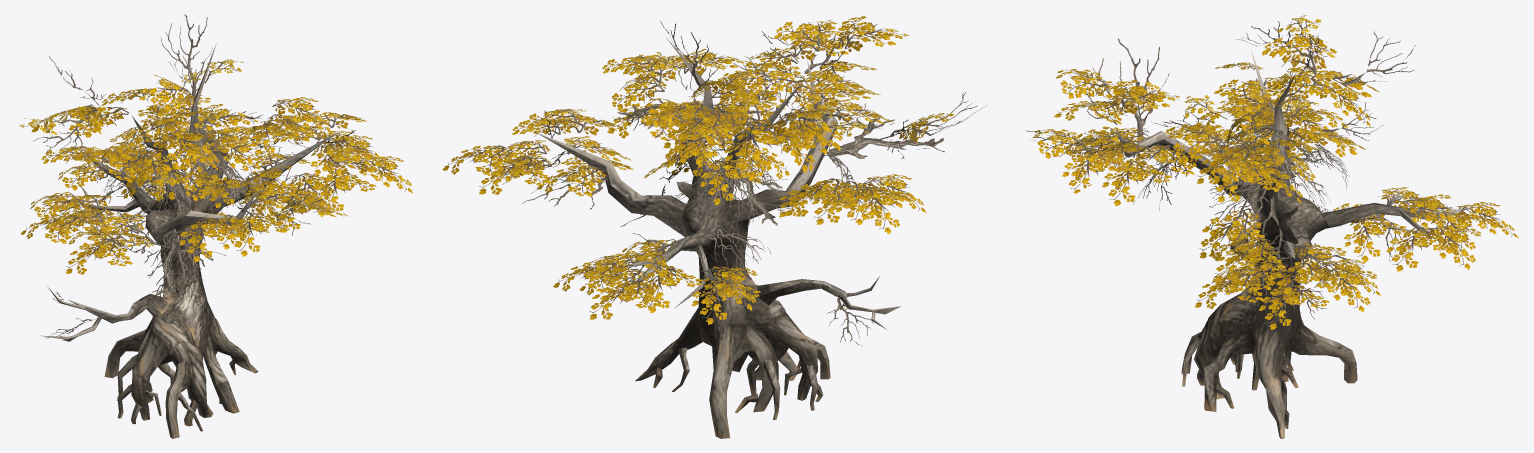
File: xsm_shu_2.FBX
3 views of the same model, side by side, from view 1: azimuth 30°, elevation 25°; view 2: azimuth 150°, elevation 25°; view 3: azimuth 270°, elevation 25° (orthographic). The views are drawn at different scales.
Parts seen in each view (by area): view 1: xsm_shu_2; view 2: xsm_shu_2; view 3: xsm_shu_2.
Boxes of the visible parts, x1=… form: xsm_shu_2: x1=19, y1=14, x2=412, y2=438; xsm_shu_2: x1=442, y1=16, x2=986, y2=438; xsm_shu_2: x1=1025, y1=15, x2=1518, y2=438.
Bounding box in the file's own units: 519 × 453 × 548.
